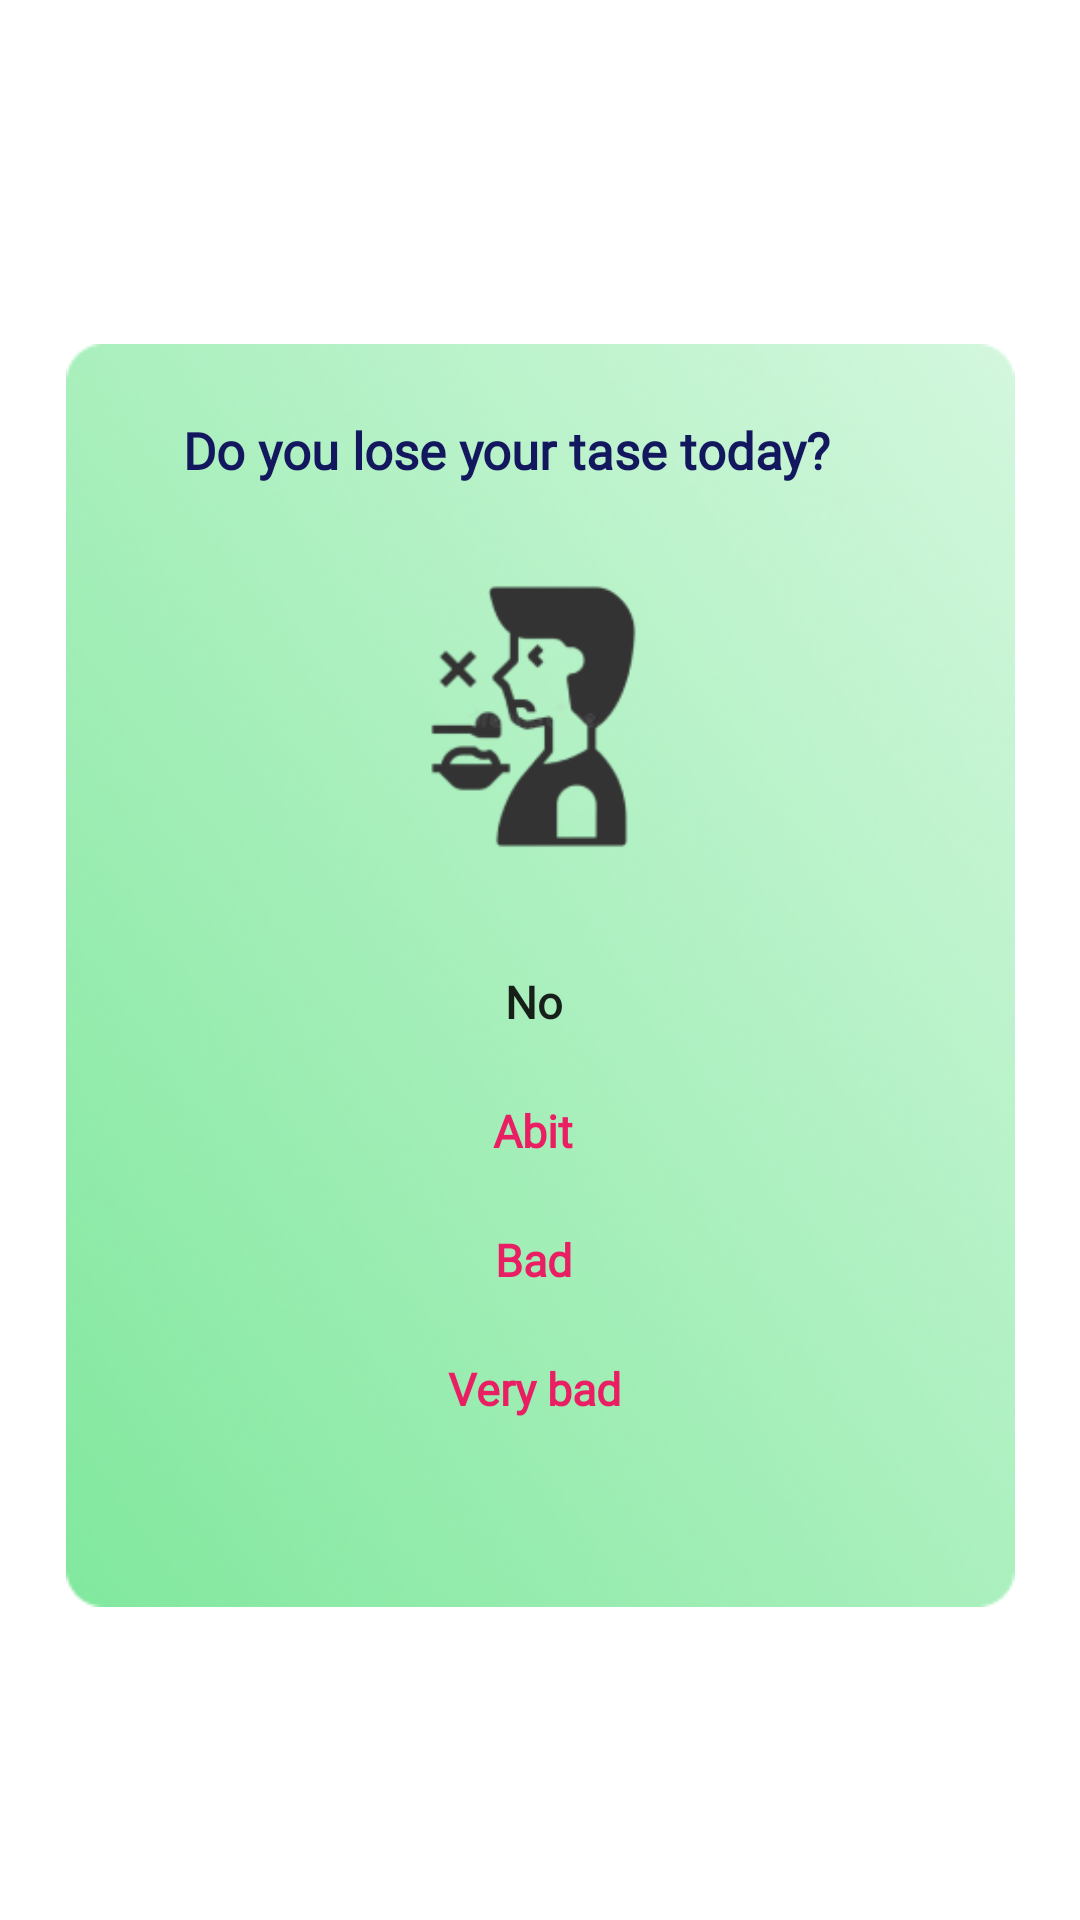

Locate icon controls on the screen. Image size 1080px×1920px, boxes as BBox(x1, y1, x2, y2).
loss taste: BBox(431, 586, 636, 847)
